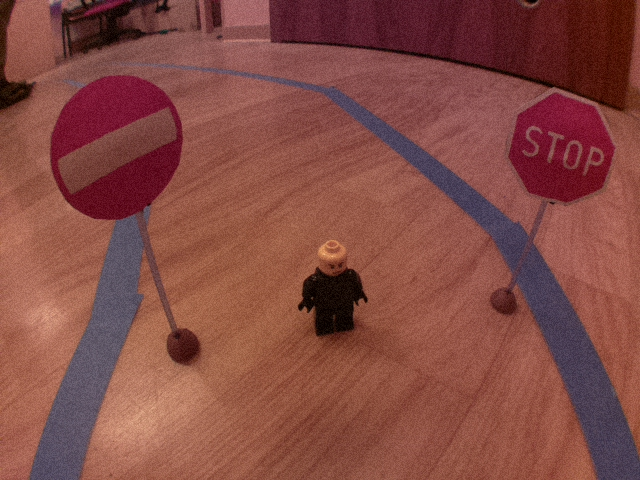LEGO_person: (295, 237, 371, 341)
stop: (504, 85, 620, 208)
zakaz: (46, 72, 185, 221)
